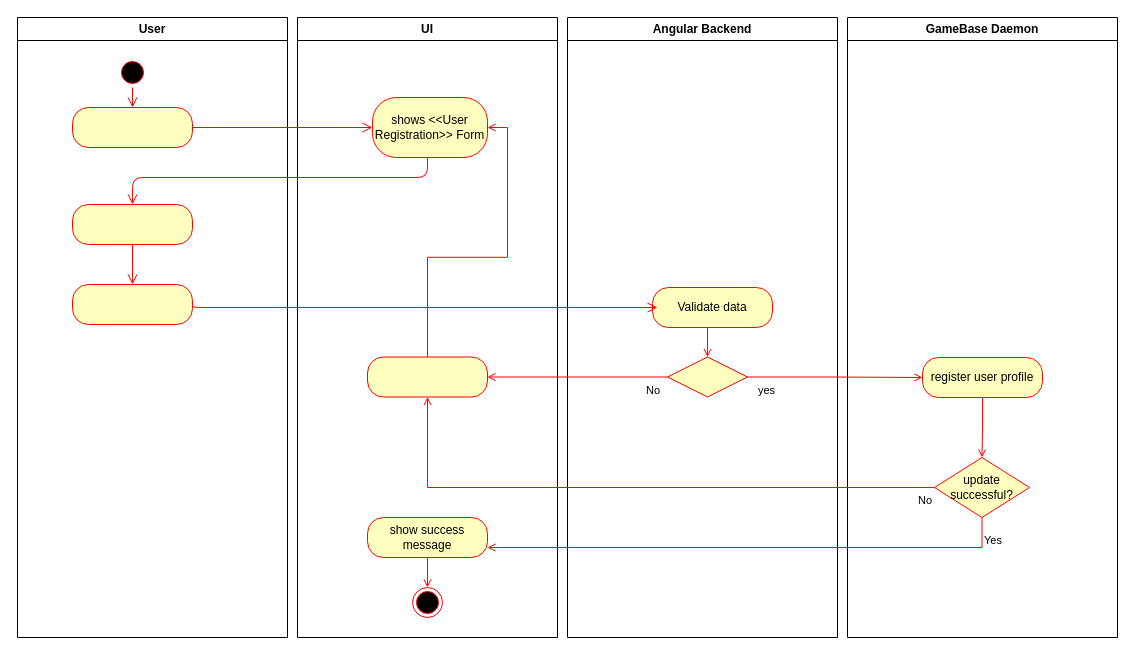
Some shapes in this 1135 by 655 pixel diagram are drawn without their labels. The centre of each missing label's shape, as x and y in pixels:
"show error message" belongs at [427,376].
"User clicks <<Register>>" belongs at [132,127].
"User clicks <<Submit>> button" belongs at [132,304].
"User enters the required information" belongs at [132,224].
"valid data?" belongs at [707,376].
